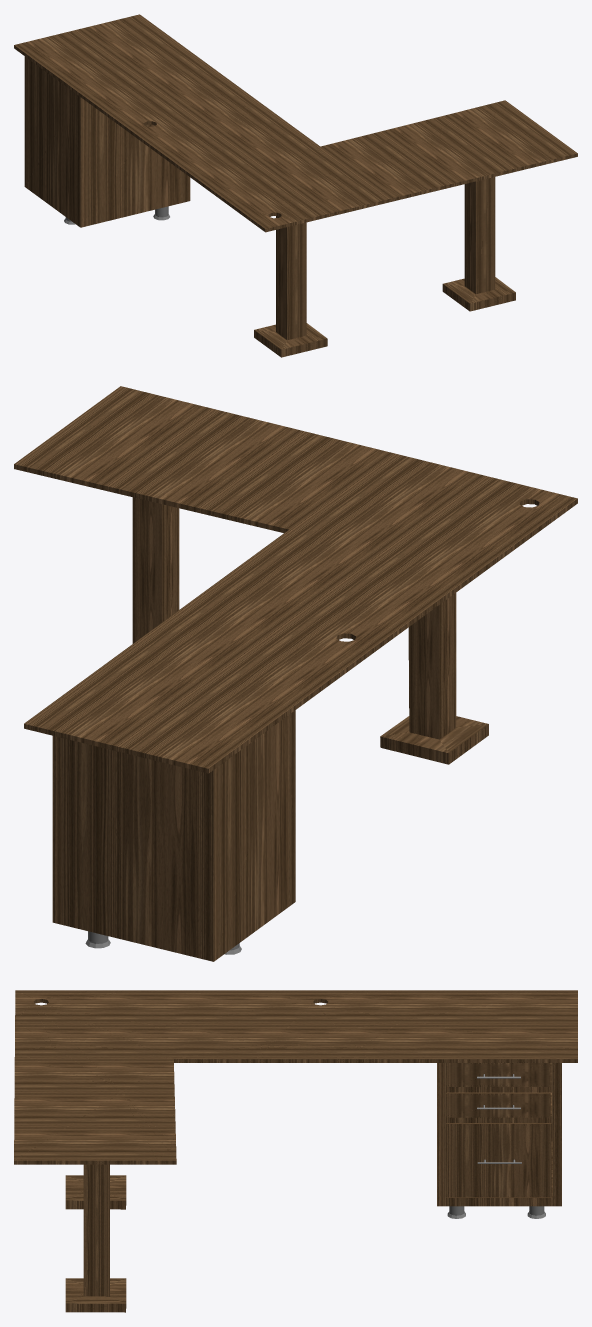
File: escritorio_en_l.glb
3 renders of one model, top to bottom at view 1: azimuth 30°, elevation 25°; view 2: azimuth 150°, elevation 25°; view 3: azimuth 270°, elevation 25°, orthographic. The views are drawn at different scales.
Visible parts, largest first — view 1: Object_5; view 2: Object_5; view 3: Object_5, Object_4.
Part boxes in pixels (x1,y1,x2,y2): Object_5: [14, 14, 577, 357]; Object_5: [14, 386, 577, 961]; Object_5: [14, 990, 577, 1312]; Object_4: [447, 1206, 545, 1218].
Bounding box in the file's own units: 5.01 × 2.38 × 7.01.
4 materials, 2 textured.
